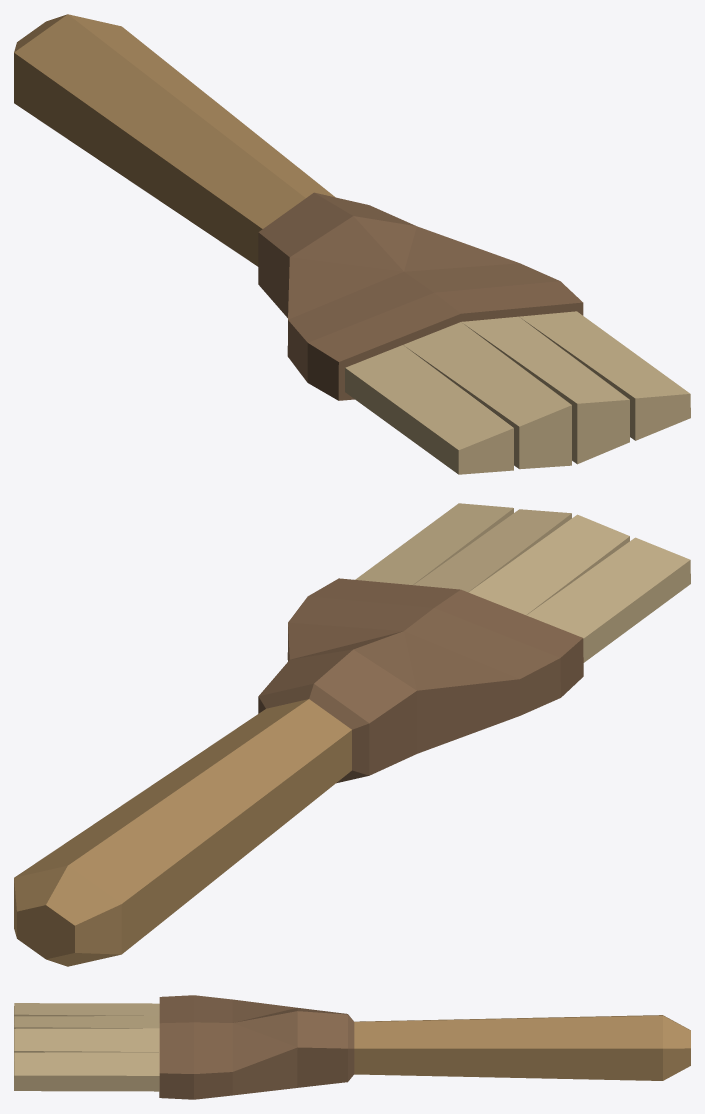
Rendered from brush_s.fbx.
3 renders of one model, top to bottom at view 1: azimuth 30°, elevation 25°; view 2: azimuth 150°, elevation 25°; view 3: azimuth 270°, elevation 25°, orthographic. The views are drawn at different scales.
Parts seen in each view (by area): view 1: MediumBrush; view 2: MediumBrush; view 3: MediumBrush.
Boxes of the visible parts, box(x1,y1,x2,y2) form: MediumBrush: box(14, 14, 690, 474); MediumBrush: box(14, 503, 690, 966); MediumBrush: box(14, 995, 690, 1099).
Bounding box in the file's own units: 5.44 × 2.35 × 19.68.
